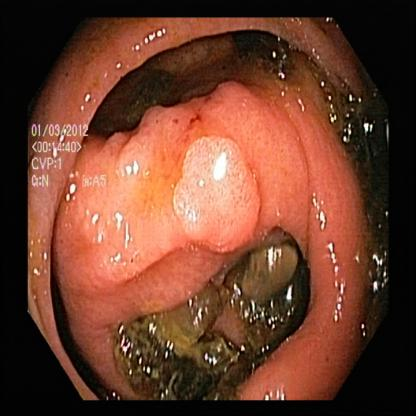Labels: (29, 117, 119, 197)
Polyps: (135, 258, 303, 382), (178, 135, 256, 255)
